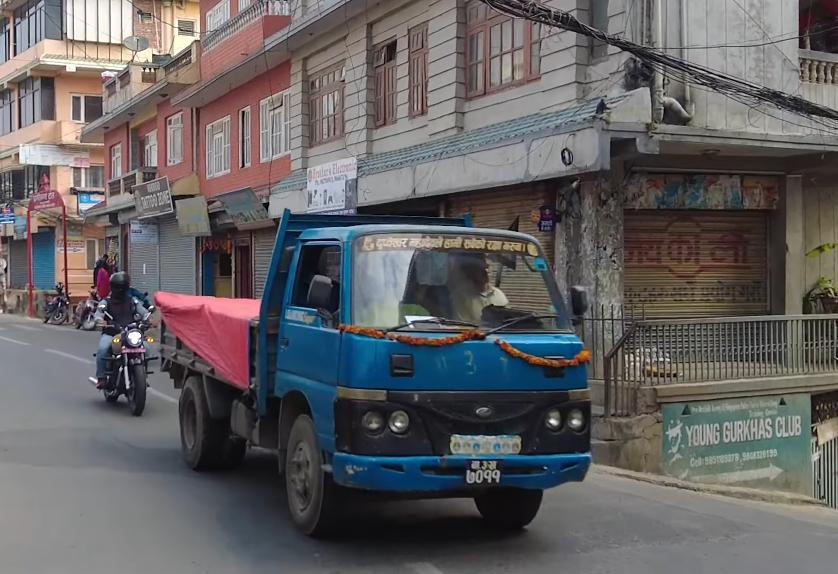bike: (85, 278, 151, 429)
mini_truck: (158, 201, 600, 552)
